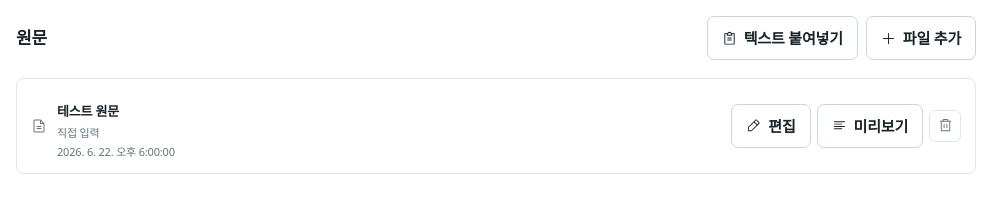
it: SourceViewer › keeps a source visible when deletion fails
Click the button named "테스트 원문 삭제" at (945, 126), box top-left (929, 110), bottom-right (961, 142)
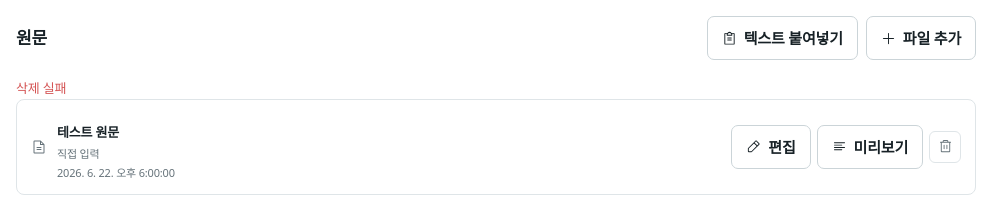
Check: the text "테스트 원문" is shown, box top-left (57, 123), bottom-right (119, 141)
Check: the message reads "삭제 실패", box top-left (16, 79), bottom-right (66, 97)
